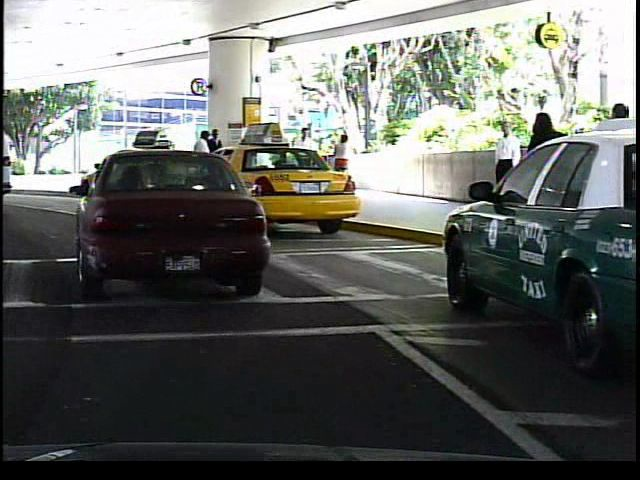person: (518, 107, 573, 255), (596, 95, 640, 255), (486, 114, 522, 218), (288, 123, 317, 193), (189, 129, 214, 196), (327, 130, 353, 190), (207, 126, 226, 193)
